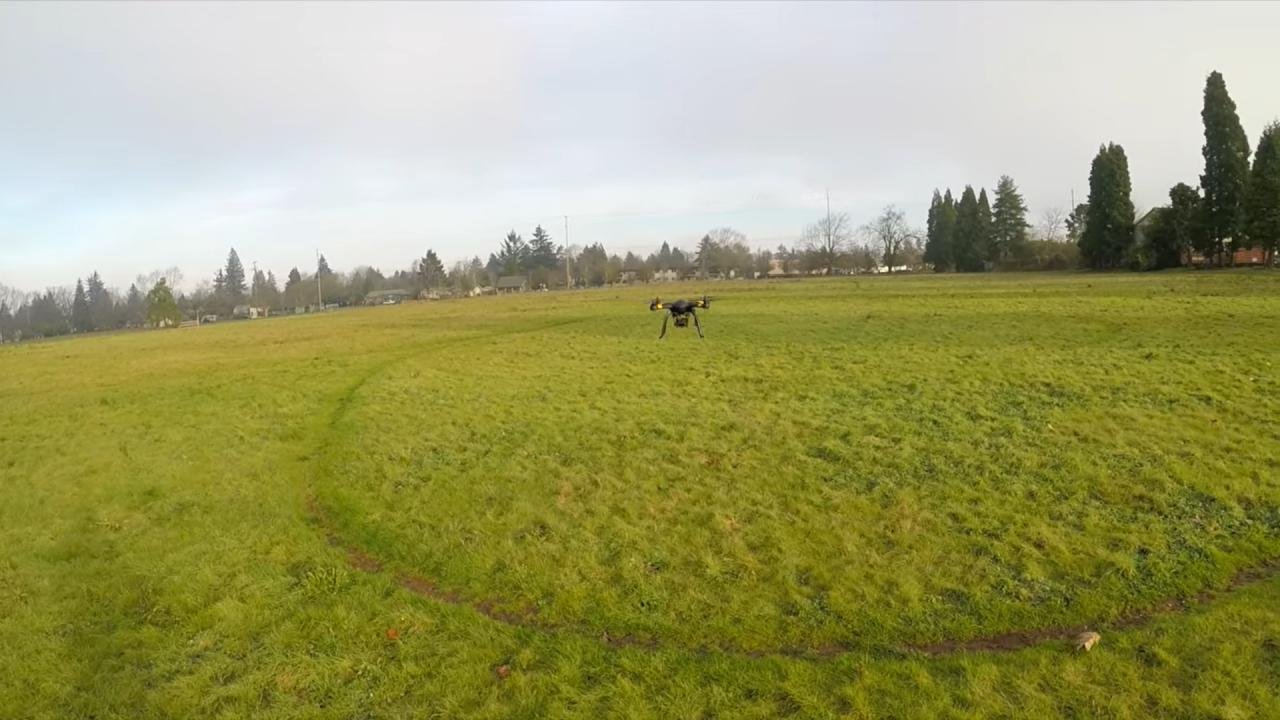Drone: (639, 287, 732, 350)
